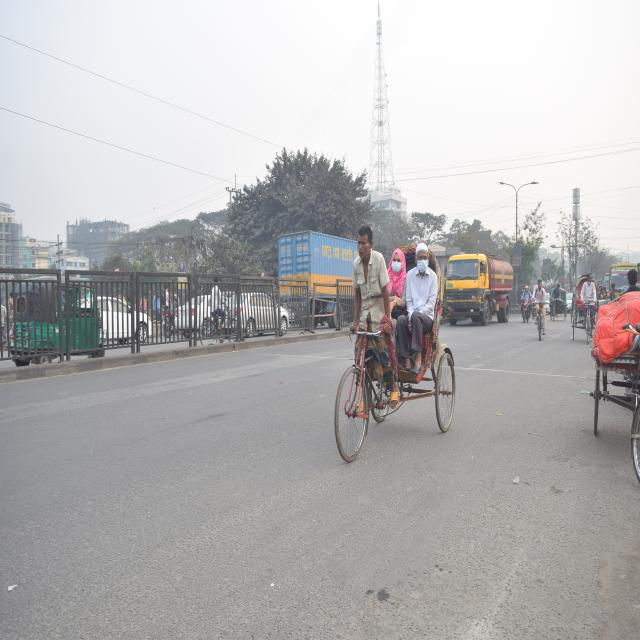bus: (608, 258, 640, 316)
car: (164, 260, 240, 350), (97, 289, 159, 364), (228, 291, 295, 344)
motorbike: (518, 280, 542, 326)
truck: (276, 228, 362, 323), (443, 248, 520, 335)
